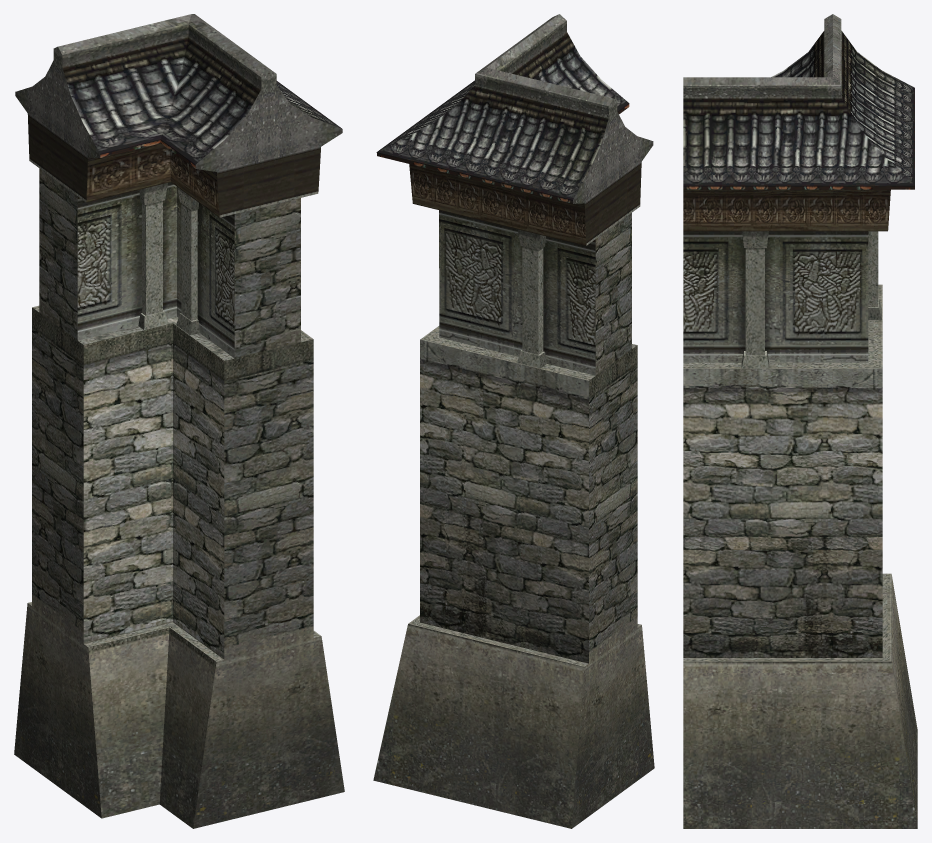
The model's file is b1-middledam-05.fbx.
The picture shows the model from 3 angles, left to right: view 1: azimuth 30°, elevation 25°; view 2: azimuth 150°, elevation 25°; view 3: azimuth 270°, elevation 25°; orthographic projection. The views are drawn at different scales.
Visible parts, largest first — view 1: b1-middledam-02; view 2: b1-middledam-02; view 3: b1-middledam-02.
Part boxes in pixels (x1=…): b1-middledam-02: x1=14, y1=14, x2=344, y2=828; b1-middledam-02: x1=373, y1=14, x2=654, y2=828; b1-middledam-02: x1=683, y1=14, x2=917, y2=828.
Size of the model in its own units: 2.35 by 7.92 by 2.35.
